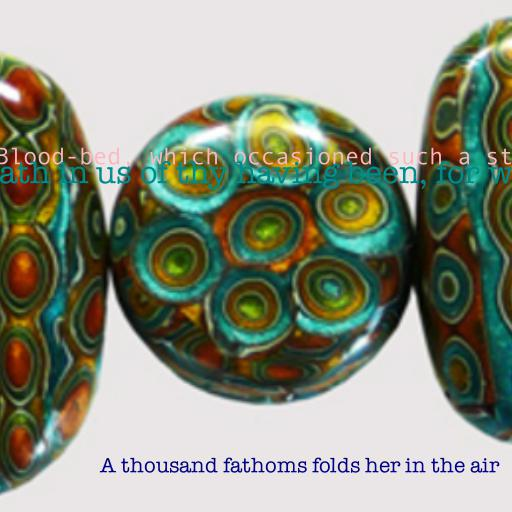American Typewriter: (0, 161, 512, 190), (99, 457, 499, 473)
Andale Mono: (0, 147, 512, 168)
